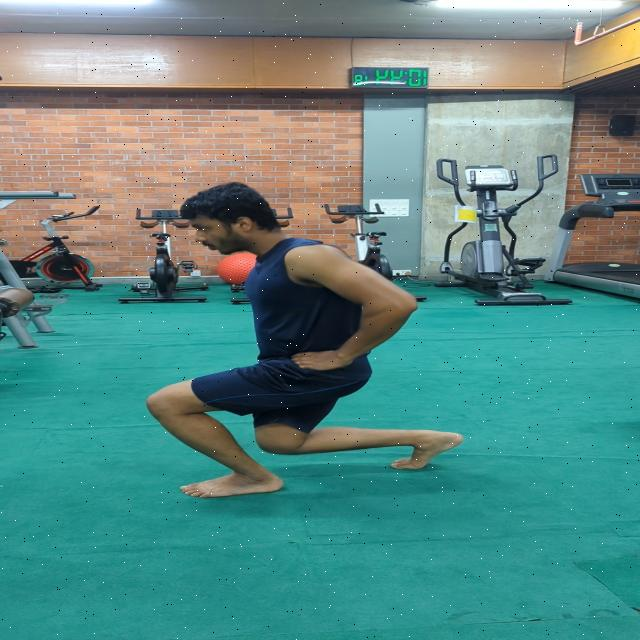Normal_Lunges: (136, 182, 471, 506)
